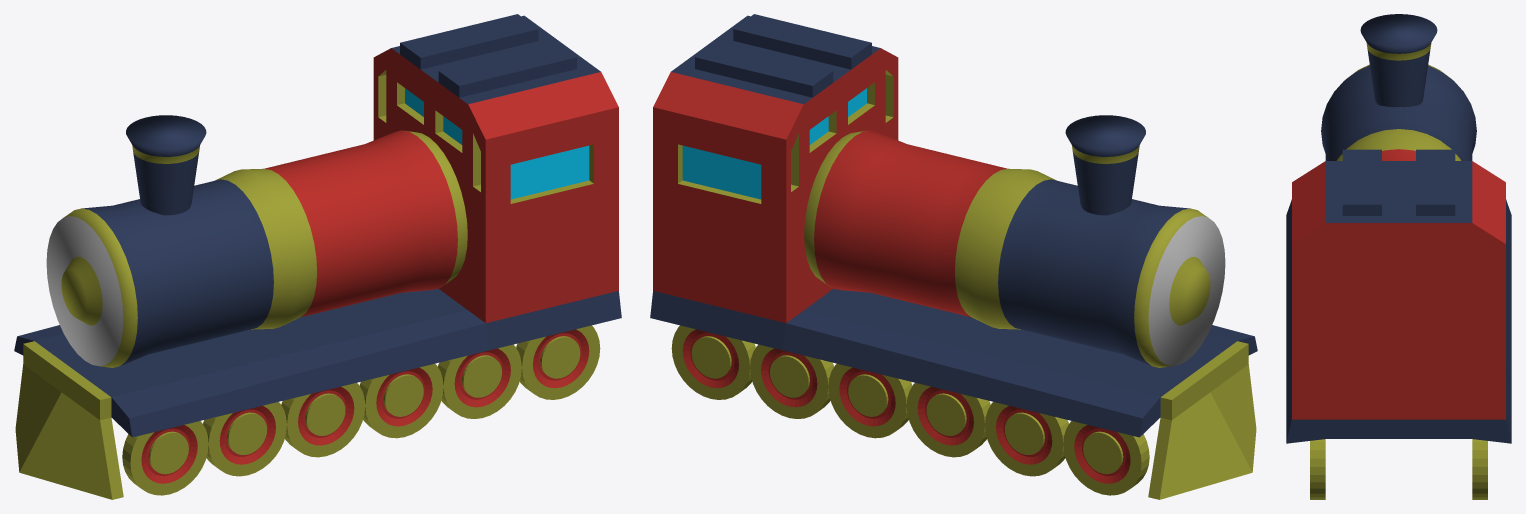
The model's file is TrainModel01.fbx.
3 renders of one model, left to right at view 1: azimuth 30°, elevation 25°; view 2: azimuth 150°, elevation 25°; view 3: azimuth 270°, elevation 25°, orthographic. The views are drawn at different scales.
Visible parts, largest first — view 1: TrainModel01; view 2: TrainModel01; view 3: TrainModel01.
Part boxes in pixels (x1=…): TrainModel01: x1=14, y1=14, x2=621, y2=499; TrainModel01: x1=650, y1=14, x2=1257, y2=499; TrainModel01: x1=1286, y1=14, x2=1511, y2=499.
Bounding box in the file's own units: 816 × 461 × 307.
